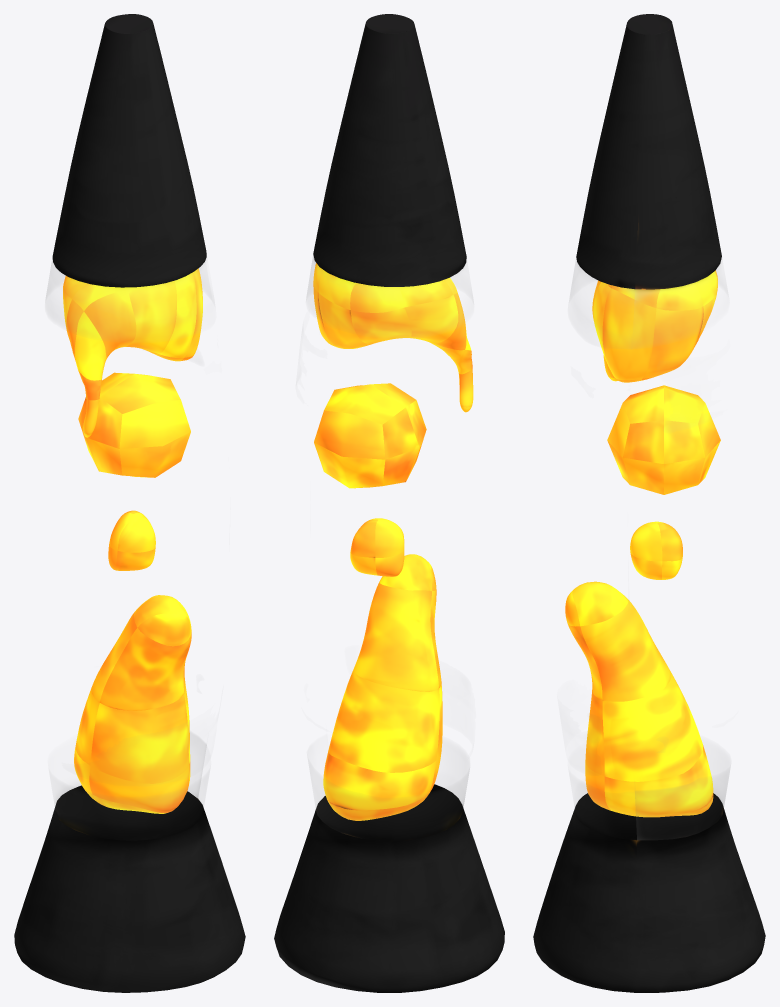
File: lava5.gltf
3 views of the same model, side by side, from view 1: azimuth 30°, elevation 25°; view 2: azimuth 150°, elevation 25°; view 3: azimuth 270°, elevation 25° (orthographic).
Visible parts, largest first — view 1: Mesh_0.001; view 2: Mesh_0.001; view 3: Mesh_0.001.
Boxes of the visible parts, x1,y1,x2,y2 form: Mesh_0.001: (14, 14, 245, 992); Mesh_0.001: (274, 14, 504, 992); Mesh_0.001: (533, 14, 765, 992).
Bounding box in the file's own units: 1.52 × 6.76 × 1.54.
Materials: 1 (1 with a texture image).
